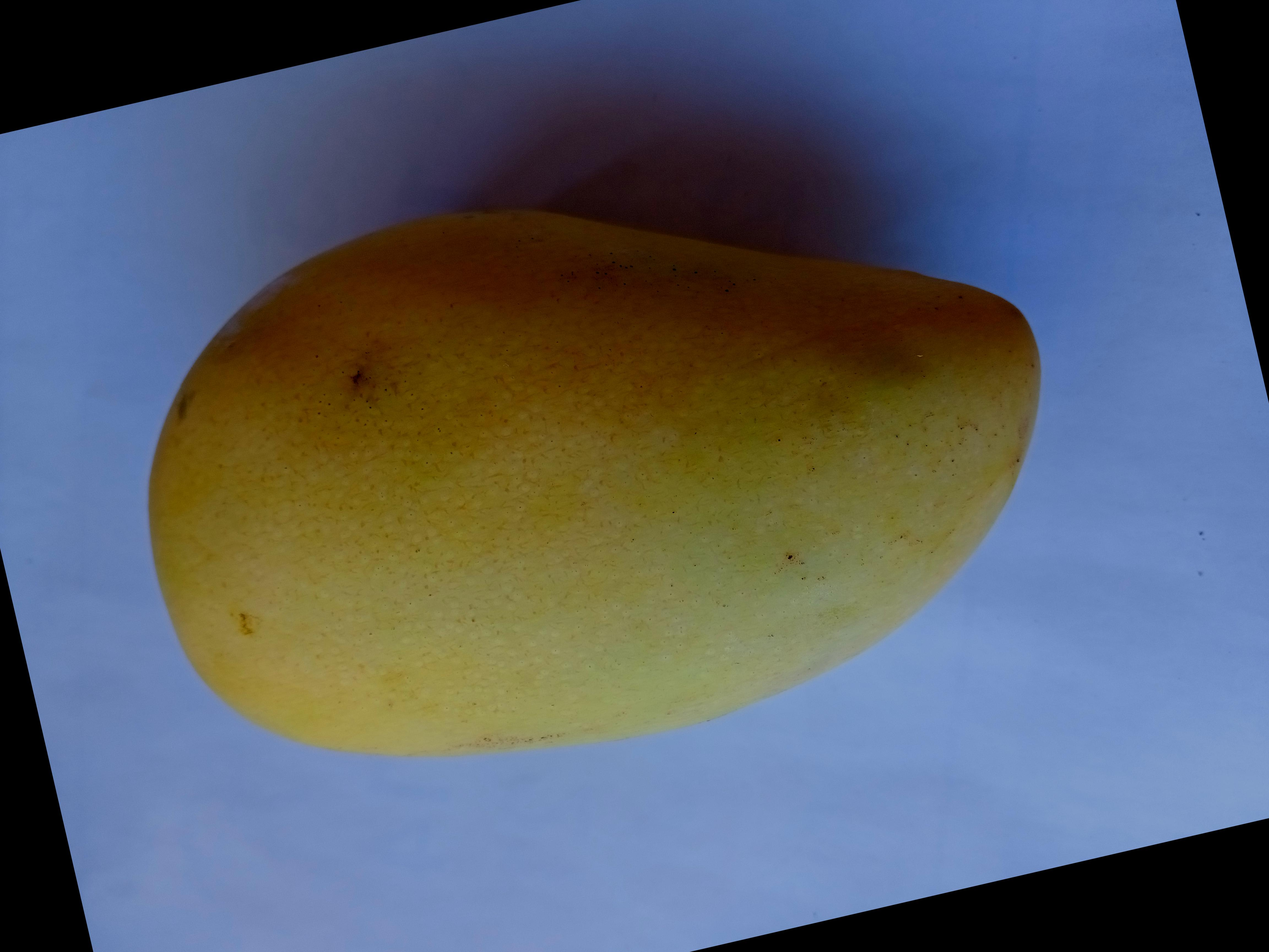Mango Ripe: (0, 262, 1037, 952)
